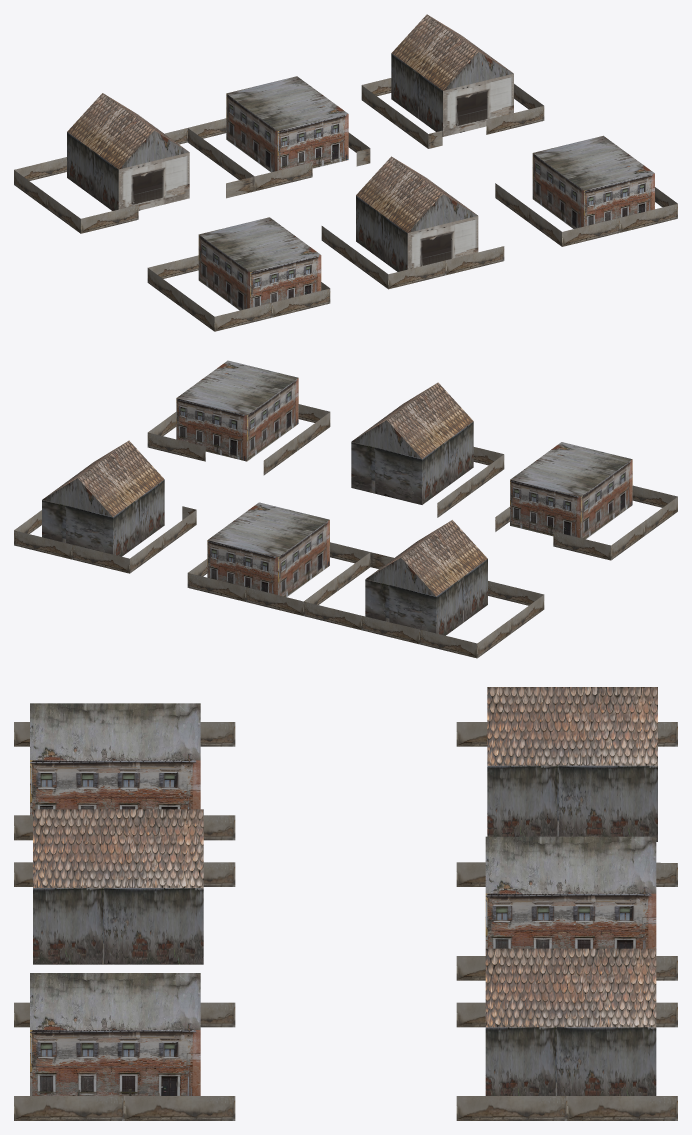
The model's file is destroyed city.fbx.
3 views of the same model, one above another, from view 1: azimuth 30°, elevation 25°; view 2: azimuth 150°, elevation 25°; view 3: azimuth 270°, elevation 25° (orthographic). The views are drawn at different scales.
Visible parts, largest first — view 1: pPlane30, polySurface138, polySurface141, polySurface139, polySurface143, polySurface137, polySurface145, polySurface144, polySurface142, polySurface136; view 2: pPlane30, polySurface139, polySurface141, polySurface138, polySurface145, polySurface137, polySurface143, polySurface144, polySurface136, polySurface142; view 3: pPlane30, polySurface139, polySurface138, polySurface141, polySurface136, polySurface142, polySurface144, polySurface145, polySurface143, polySurface137.
Boxes of the visible parts, x1=… form: pPlane30: x1=14, y1=78, x2=677, y2=331; polySurface138: x1=226, y1=76, x2=348, y2=172; polySurface141: x1=198, y1=217, x2=321, y2=310; polySurface139: x1=532, y1=135, x2=654, y2=228; polySurface143: x1=67, y1=132, x2=189, y2=210; polySurface137: x1=391, y1=53, x2=513, y2=136; polySurface145: x1=356, y1=195, x2=478, y2=271; polySurface144: x1=356, y1=156, x2=477, y2=232; polySurface142: x1=67, y1=93, x2=189, y2=169; polySurface136: x1=392, y1=14, x2=513, y2=90; pPlane30: x1=14, y1=404, x2=677, y2=658; polySurface139: x1=176, y1=360, x2=298, y2=461; polySurface141: x1=510, y1=442, x2=632, y2=539; polySurface138: x1=207, y1=502, x2=329, y2=597; polySurface145: x1=351, y1=421, x2=473, y2=504; polySurface137: x1=42, y1=479, x2=164, y2=556; polySurface143: x1=365, y1=559, x2=487, y2=635; polySurface144: x1=351, y1=382, x2=473, y2=458; polySurface136: x1=42, y1=440, x2=164, y2=516; polySurface142: x1=366, y1=520, x2=487, y2=596; pPlane30: x1=14, y1=722, x2=677, y2=1120; polySurface139: x1=30, y1=973, x2=200, y2=1095; polySurface138: x1=485, y1=836, x2=656, y2=948; polySurface141: x1=30, y1=703, x2=200, y2=815; polySurface136: x1=485, y1=948, x2=656, y2=1027; polySurface142: x1=487, y1=687, x2=657, y2=765; polySurface144: x1=33, y1=809, x2=203, y2=887; polySurface145: x1=33, y1=888, x2=203, y2=964; polySurface143: x1=487, y1=765, x2=657, y2=841; polySurface137: x1=485, y1=1027, x2=656, y2=1095.
Size of the model in its own units: 3836 by 605 by 2877.
Materials: 5 (5 with a texture image).
